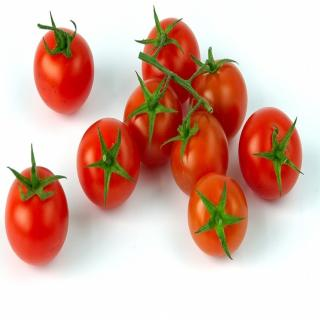Tomat: (5, 144, 70, 266), (161, 97, 230, 197), (136, 6, 202, 104), (34, 11, 95, 115), (239, 107, 305, 202), (77, 118, 141, 210), (124, 72, 184, 168), (189, 47, 249, 142), (188, 173, 249, 261)
